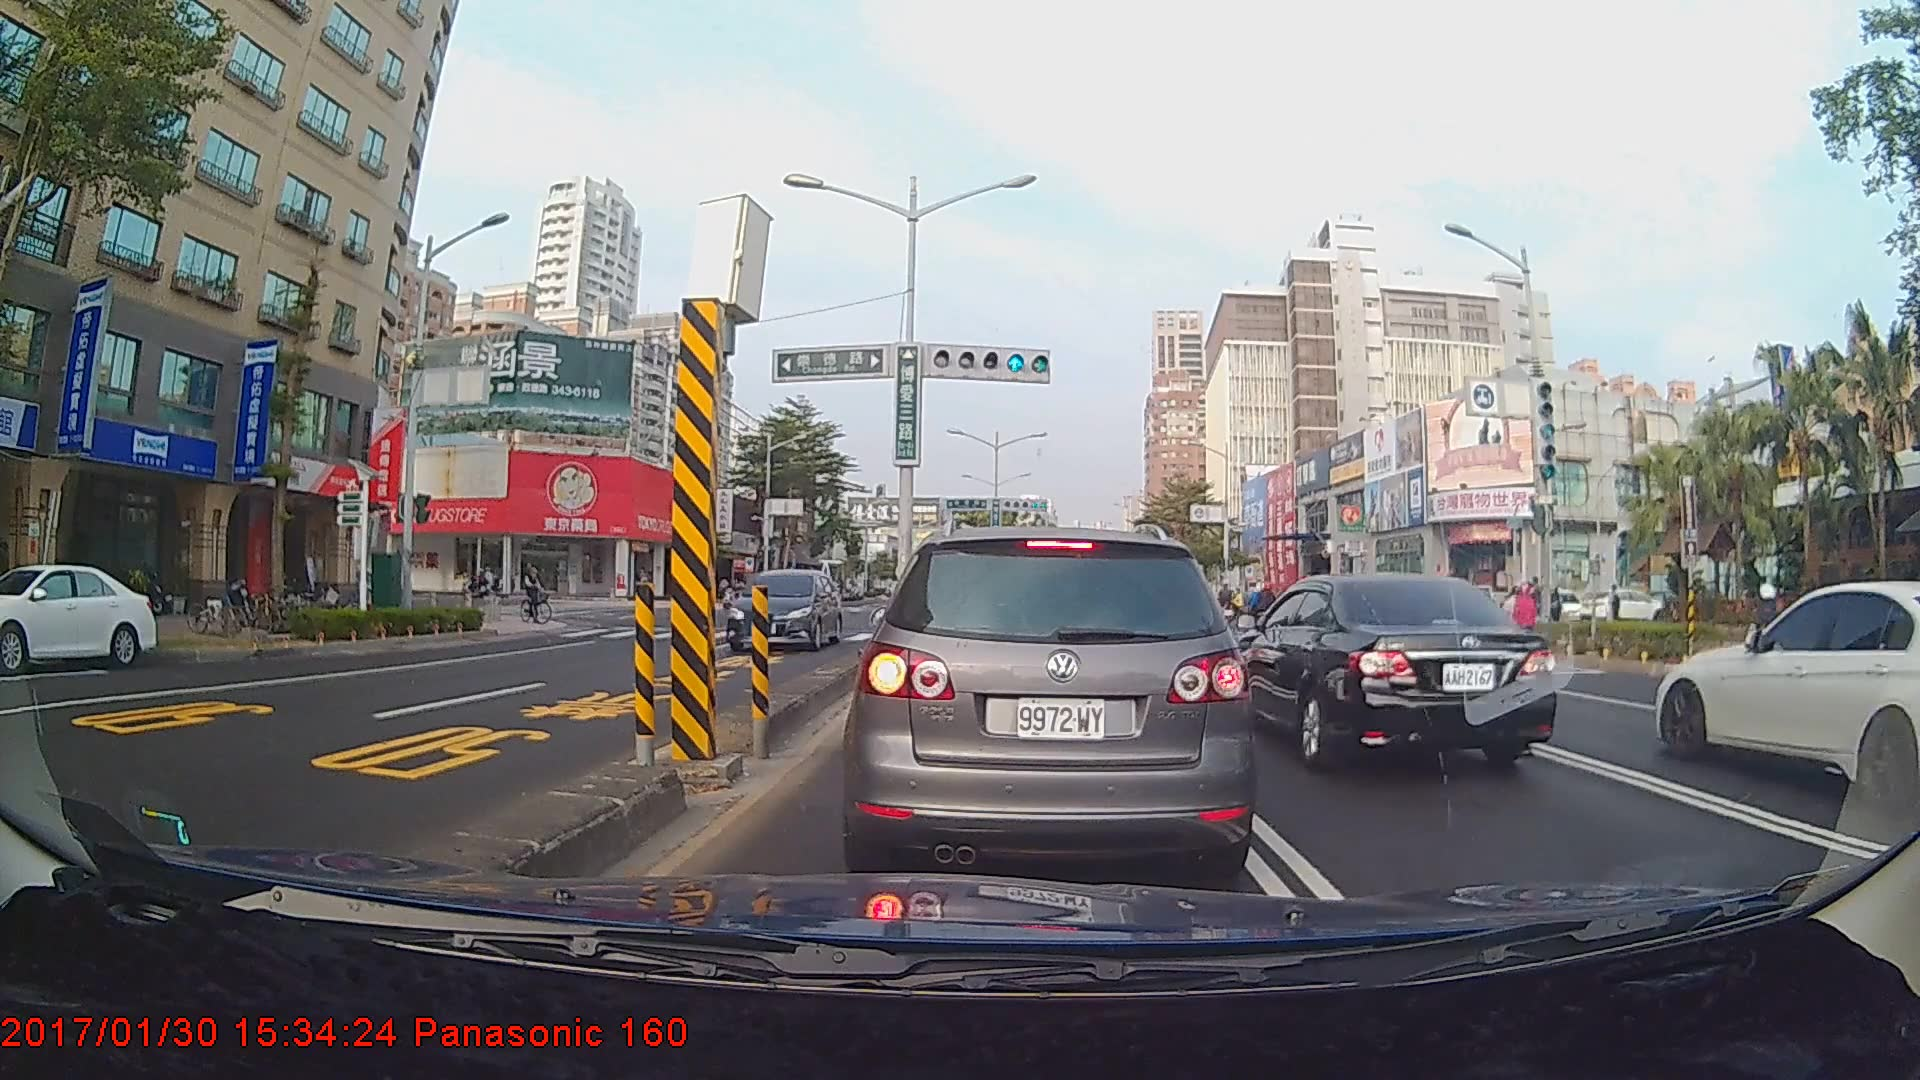pedestrian: (1603, 581, 1624, 640)
rider: (1738, 578, 1787, 654), (518, 559, 561, 629), (1247, 580, 1293, 643), (460, 563, 504, 603)
vehicle: (855, 523, 1249, 880), (1211, 571, 1558, 777), (1654, 579, 1919, 817), (0, 561, 158, 671), (723, 567, 845, 652)
